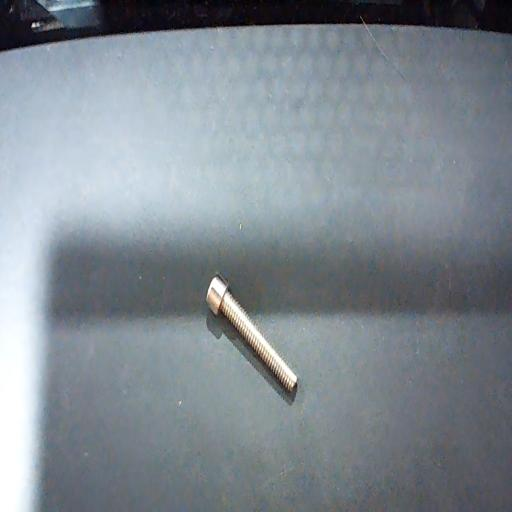screw: (206, 274, 298, 394)
